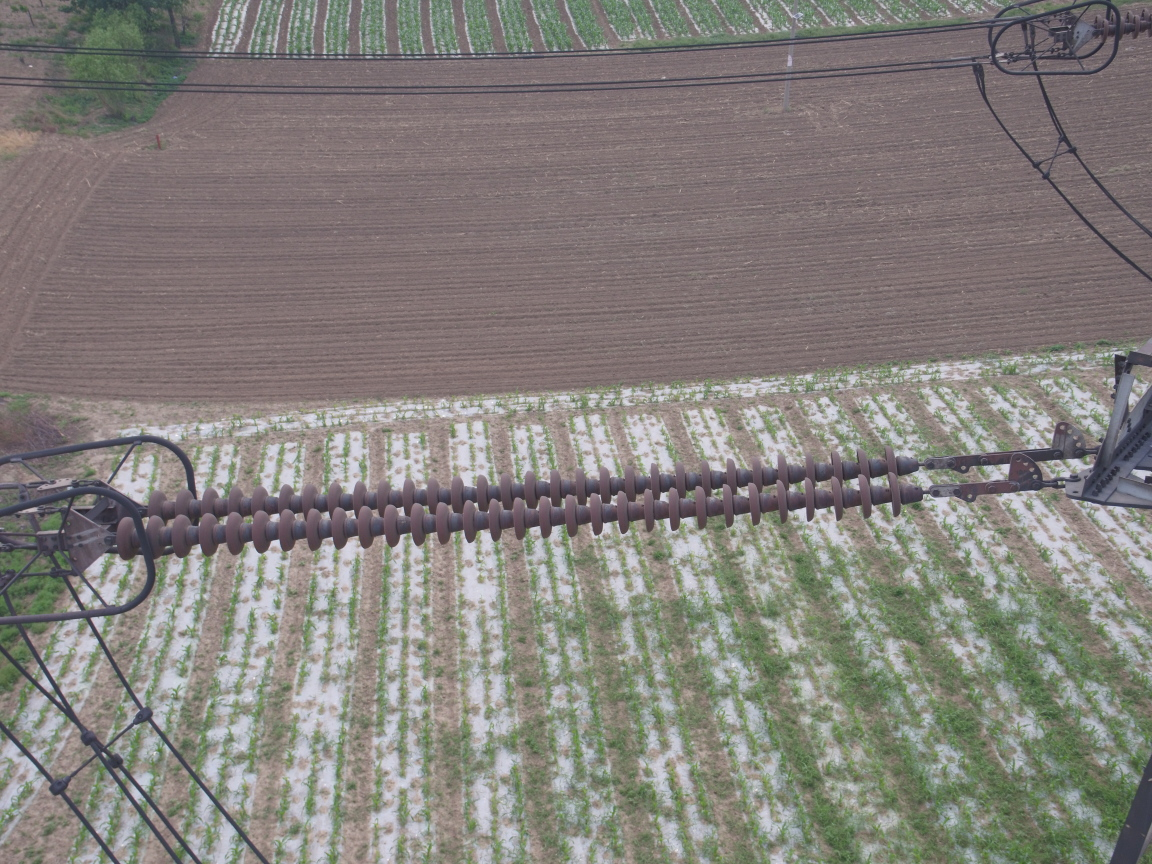insulator: (86, 440, 990, 567)
